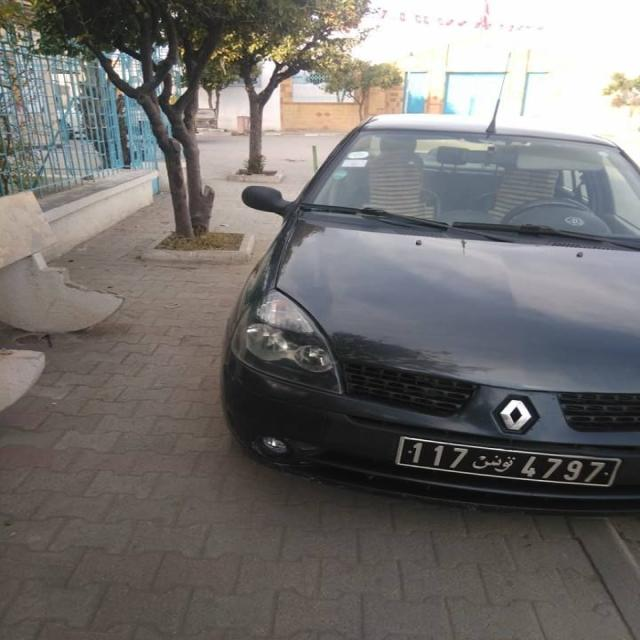LP: (392, 432, 623, 488)
